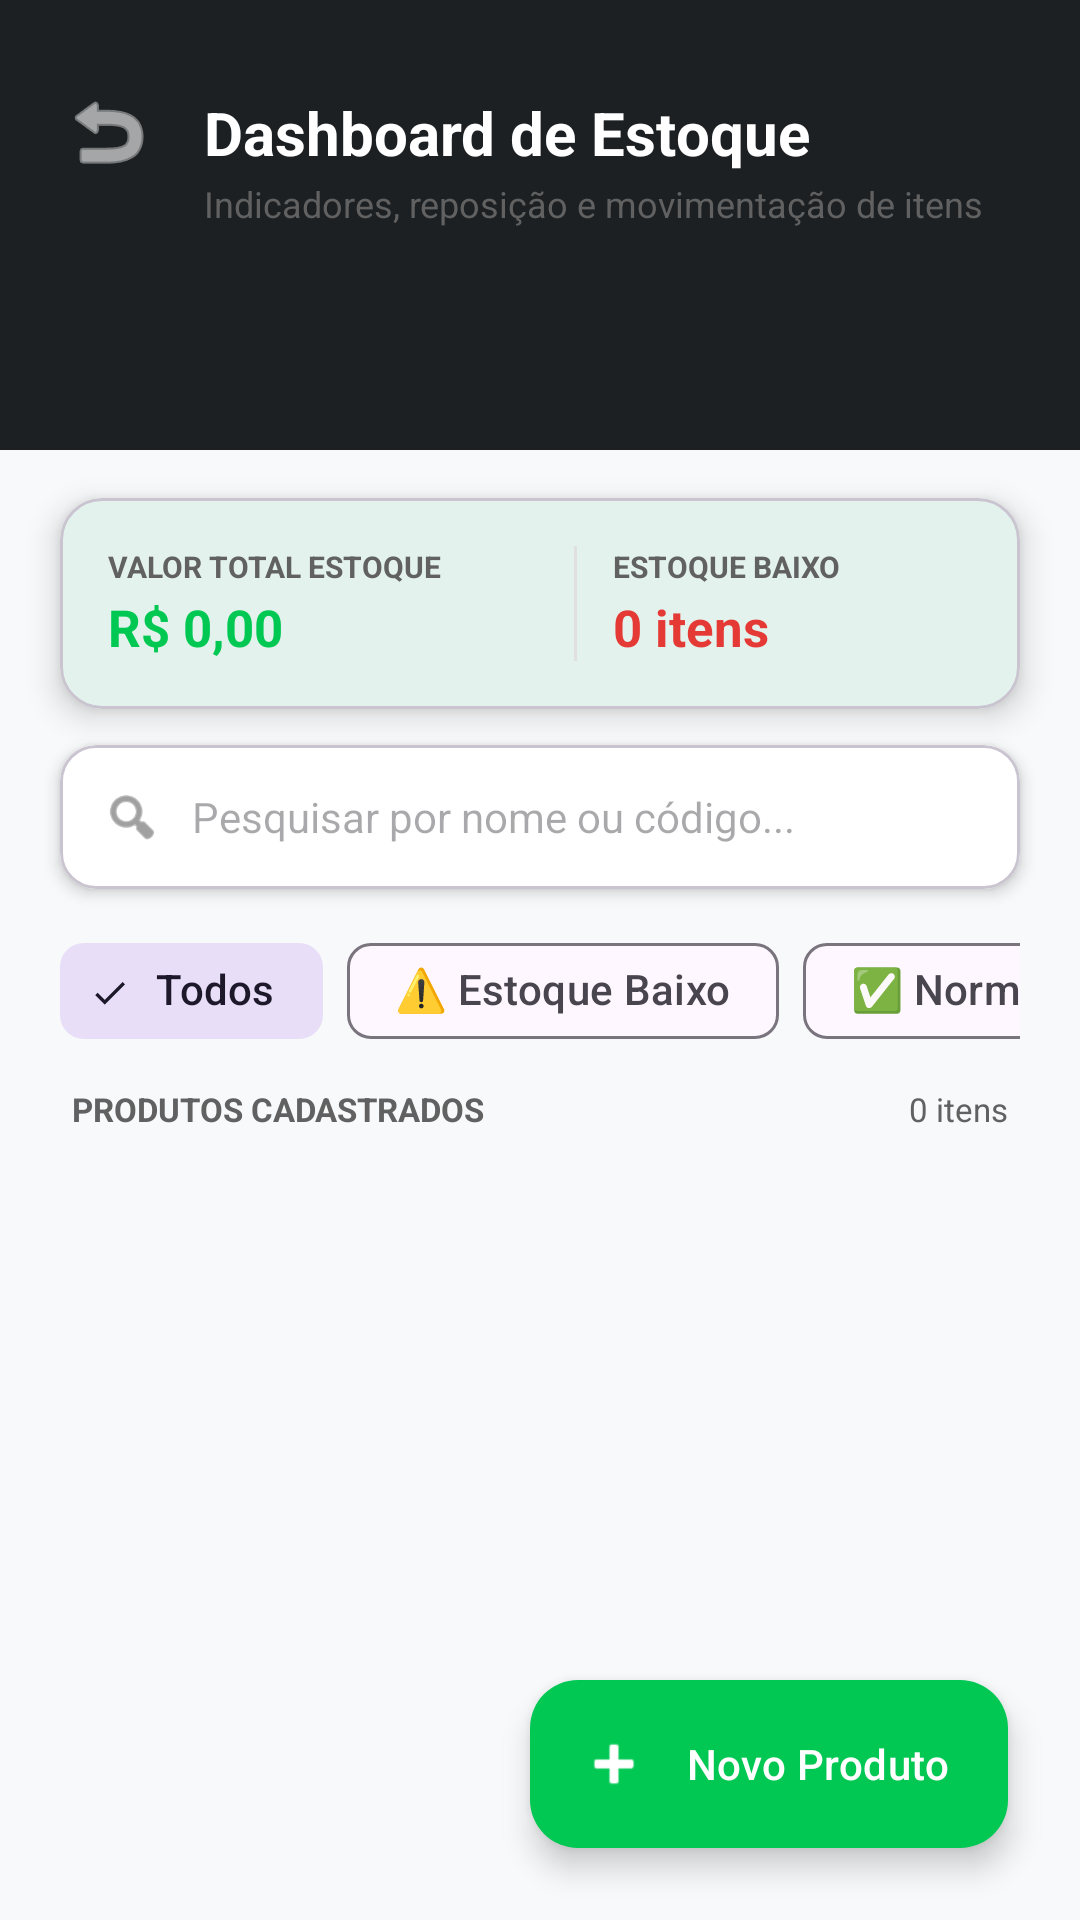

Icon click points for this 1080 × 1920 phone screenshot, format [x,y]:
search: [132,817]
Voltar: [109,132]
